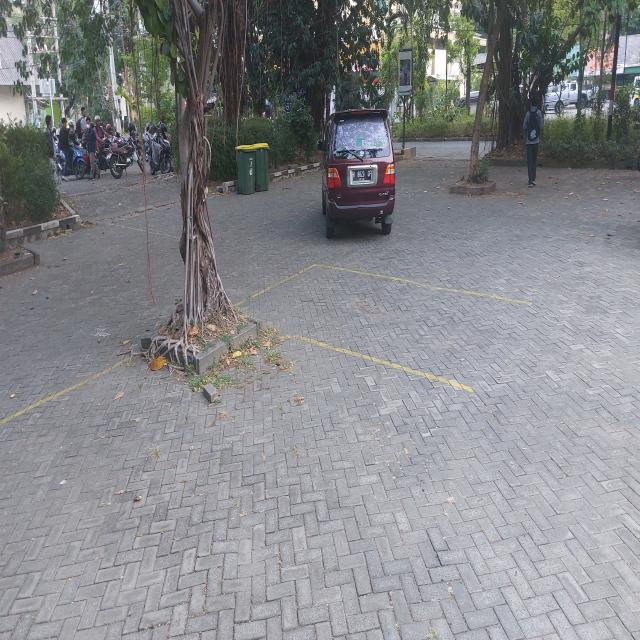empty: (231, 266, 523, 389)
